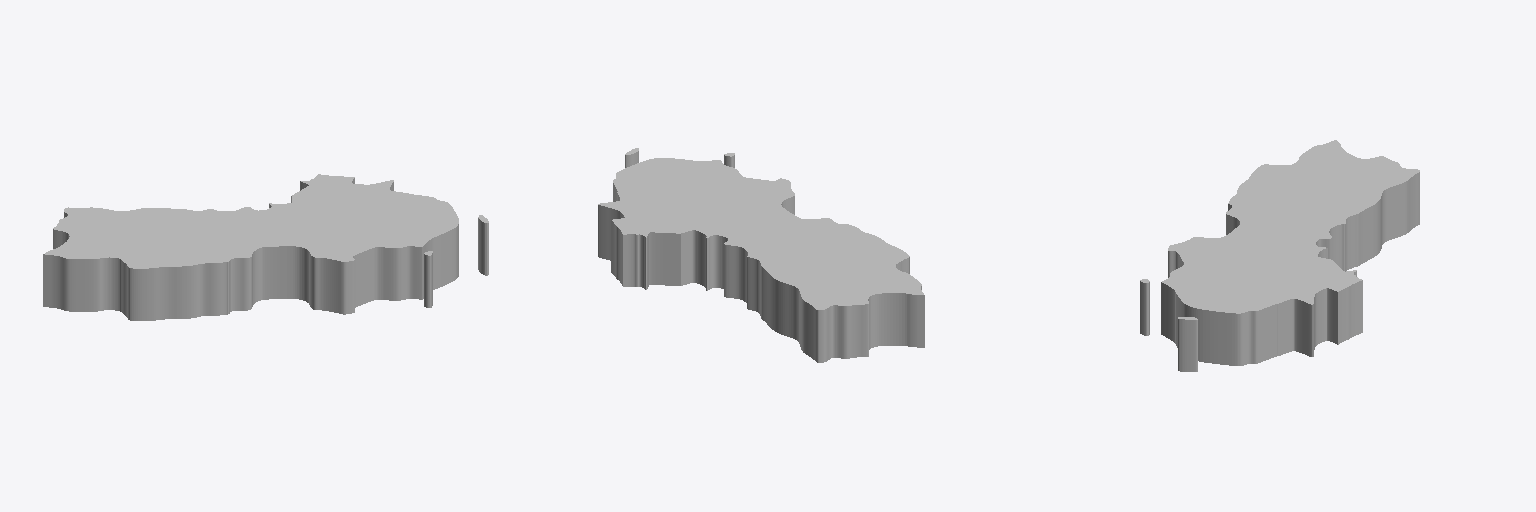
The model's file is Asia_02.obj.
3 renders of one model, left to right at view 1: azimuth 30°, elevation 25°; view 2: azimuth 150°, elevation 25°; view 3: azimuth 270°, elevation 25°, orthographic.
Visible parts, largest first — view 1: Asia_02_path4266; view 2: Asia_02_path4266; view 3: Asia_02_path4266.
Part boxes in pixels (bbox=[...]): Asia_02_path4266: bbox=[43, 174, 488, 320]; Asia_02_path4266: bbox=[598, 148, 924, 362]; Asia_02_path4266: bbox=[1140, 140, 1419, 371].
Bounding box in the file's own units: 0.7348 × 0.1 × 0.4831.